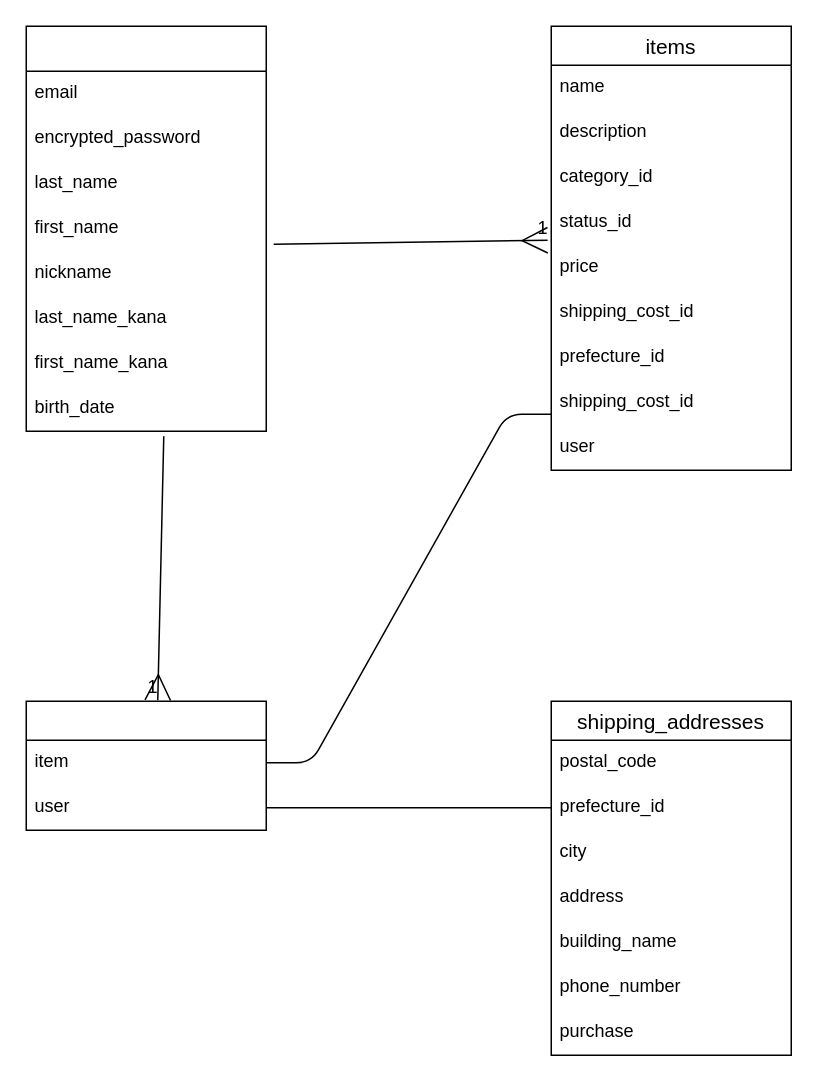
Image size: 818x1086. Some labels were removed from this diagram. The shapes that lost their labels are listed below. From the top down, each one's box as (x1, y1, x2, y2) in pixels, then its label:
(25, 25, 266, 431): users
(25, 700, 266, 830): purchases
